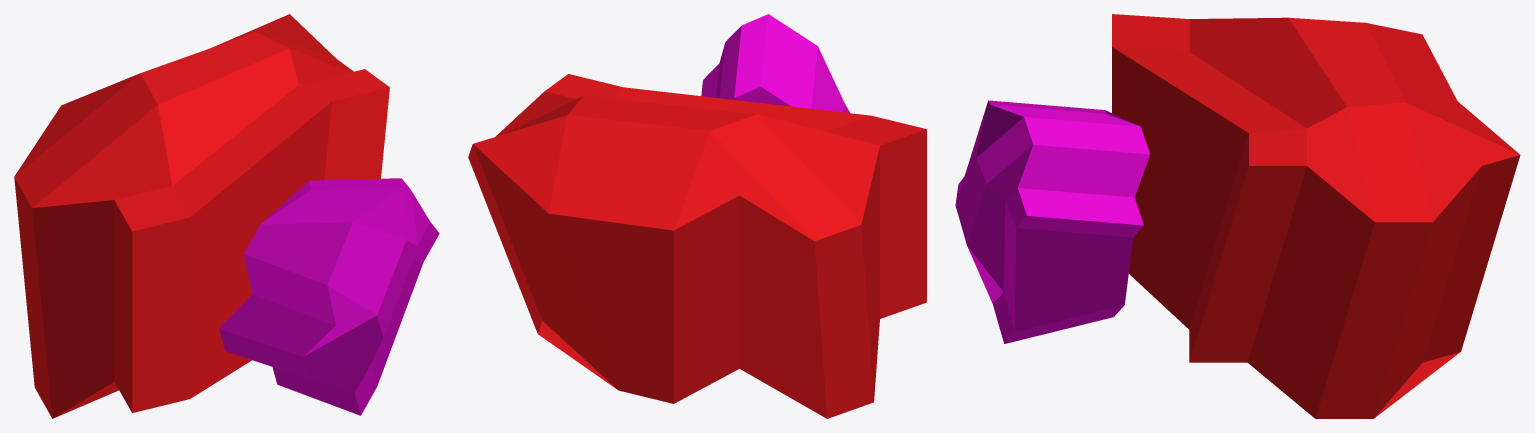
The model's file is sample3Dobject.fbx.
3 renders of one model, left to right at view 1: azimuth 30°, elevation 25°; view 2: azimuth 150°, elevation 25°; view 3: azimuth 270°, elevation 25°, orthographic. The views are drawn at different scales.
Visible parts, largest first — view 1: Cube, Cube.001; view 2: Cube, Cube.001; view 3: Cube, Cube.001.
Boxes of the visible parts, x1,y1,x2,y2 form: Cube: (14, 14, 389, 418); Cube.001: (219, 178, 439, 415); Cube: (468, 74, 926, 418); Cube.001: (701, 14, 849, 112); Cube: (1112, 14, 1520, 418); Cube.001: (955, 100, 1149, 343).
Bounding box in the file's own units: 413 × 312 × 485.
